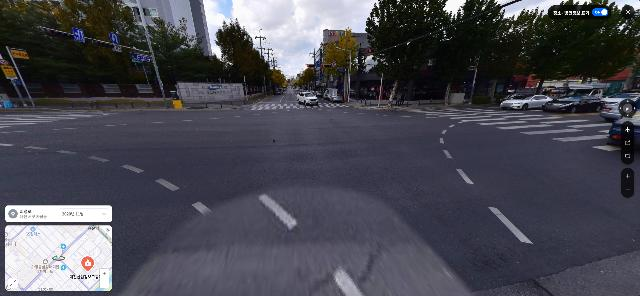ginkgo: (323, 30, 358, 102), (272, 69, 284, 92), (279, 74, 287, 90), (296, 75, 303, 91)
other: (1, 0, 143, 83), (360, 0, 454, 107), (442, 0, 519, 105), (509, 0, 590, 95), (140, 14, 220, 98), (568, 3, 640, 94), (214, 17, 264, 99), (312, 52, 333, 98), (262, 60, 278, 95), (300, 65, 314, 92)
